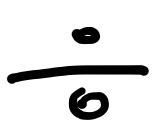div: (8, 26, 149, 118)
